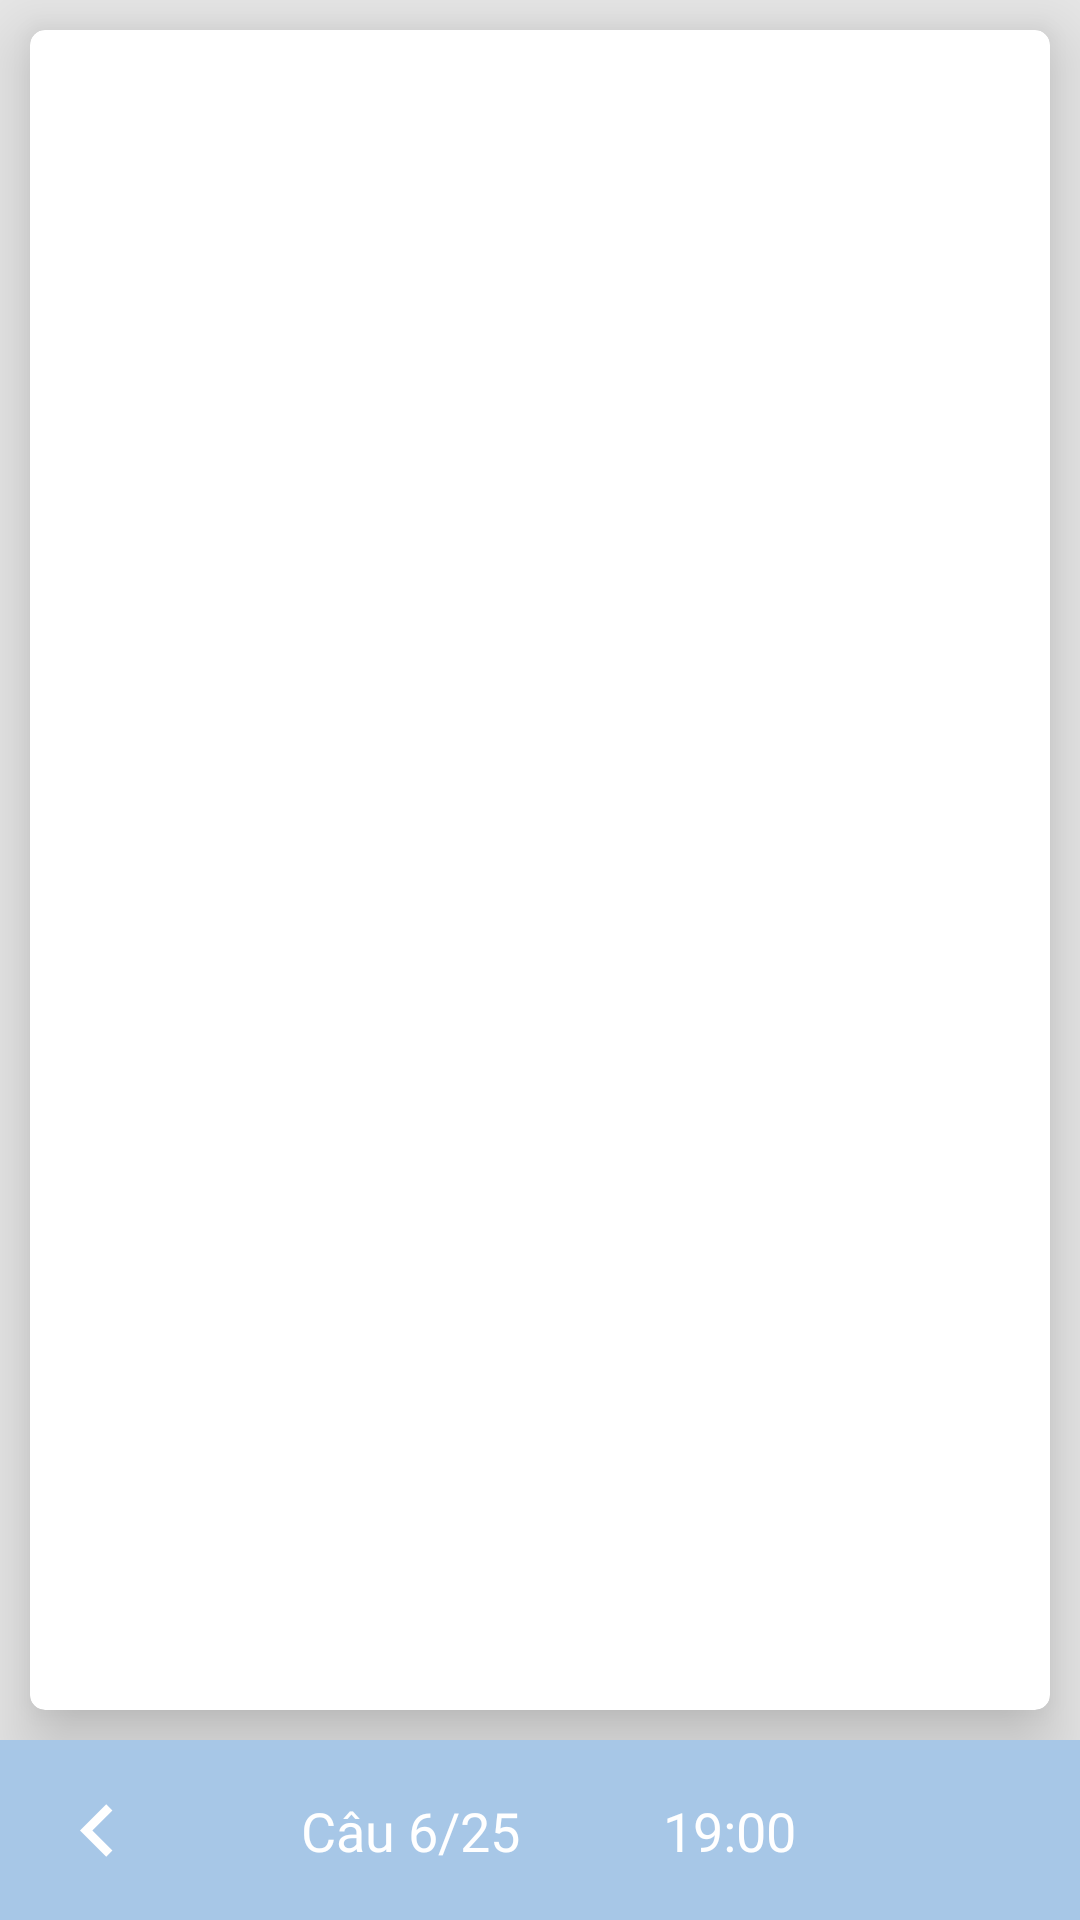

Where icons sit on this 1080px×1920px app screen, as bbox=[x1, y1, x2, y2]:
keyboard arrow left: bbox=[80, 1804, 112, 1857]
